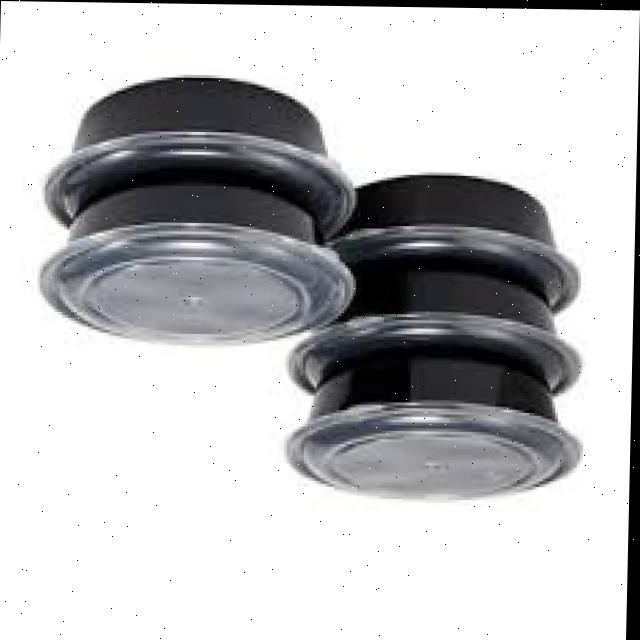disposable: (35, 162, 365, 366), (283, 334, 570, 517)
